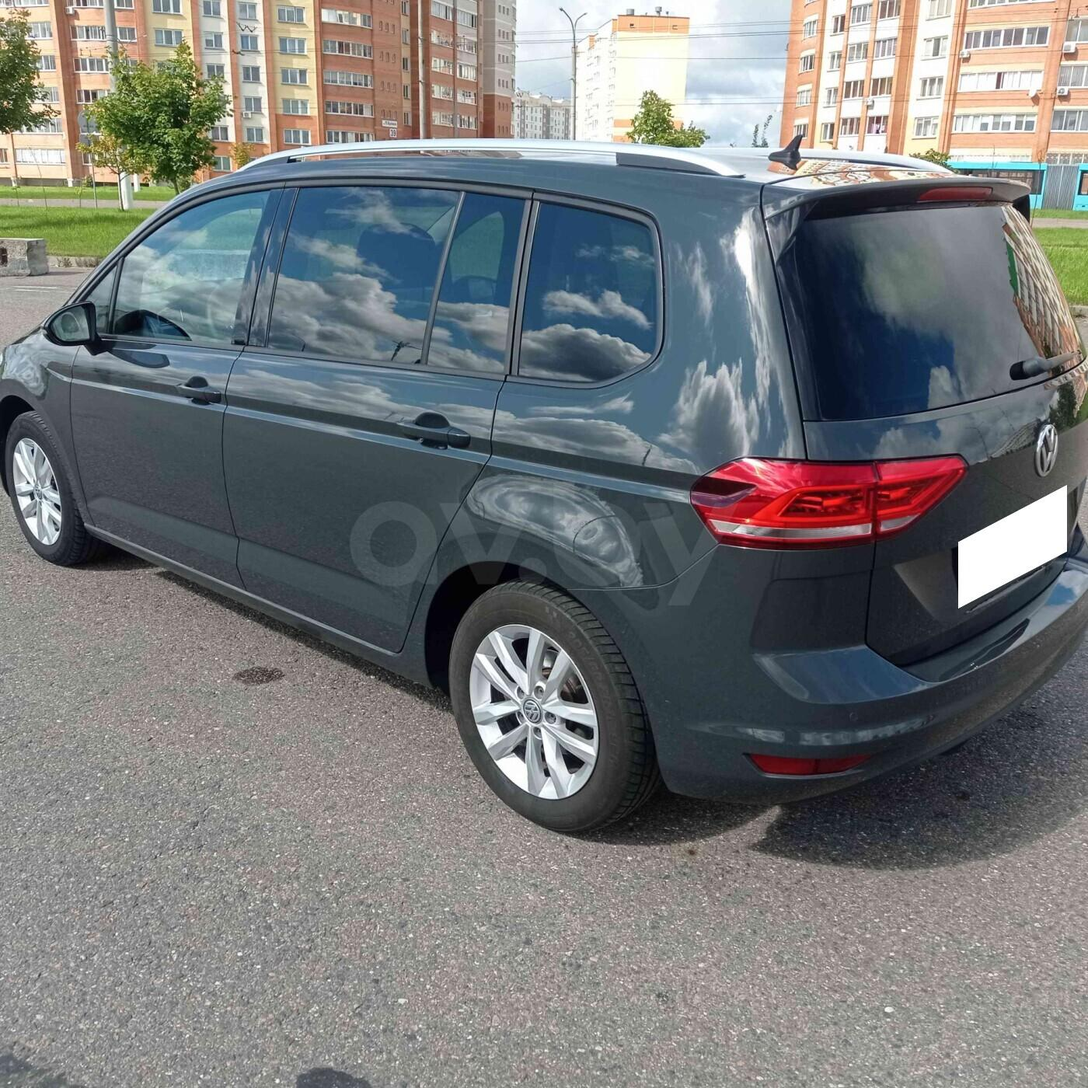Touran_2015: (2, 137, 1088, 835)
